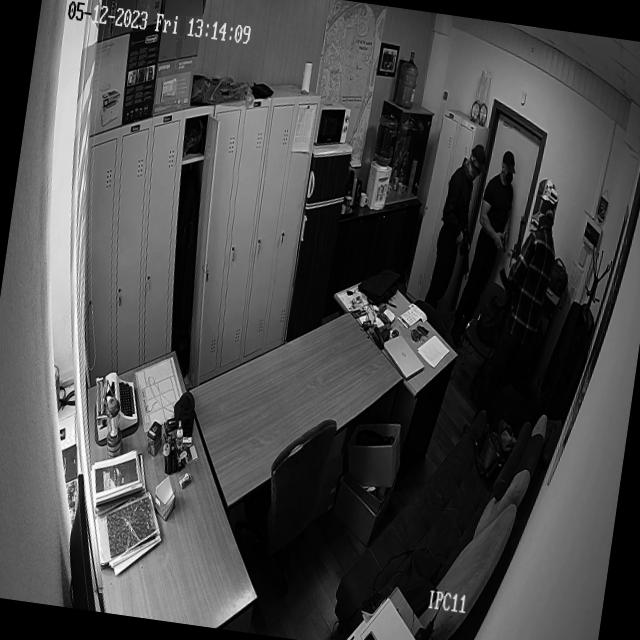gun: (498, 214, 526, 313), (454, 217, 478, 281), (501, 230, 511, 252)
person with a gun: (496, 200, 557, 388), (428, 144, 482, 314), (469, 152, 516, 310)
